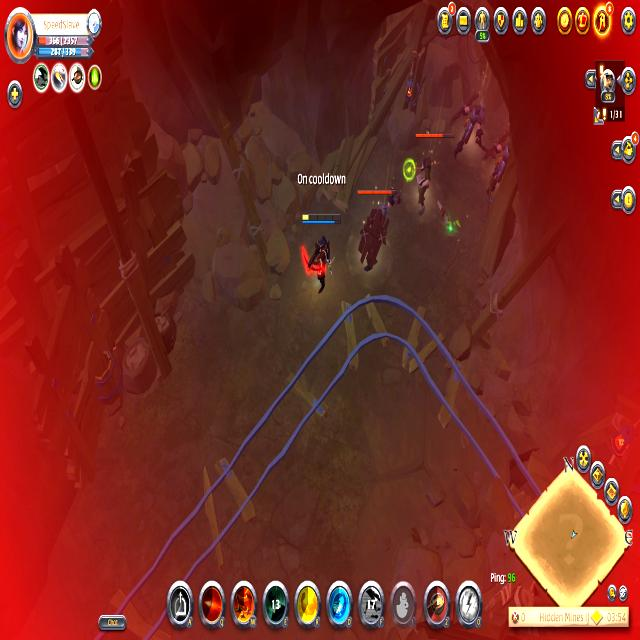ore: (353, 182, 397, 276), (446, 88, 492, 162), (410, 128, 445, 219), (483, 123, 521, 202)
red: (298, 211, 342, 298)
